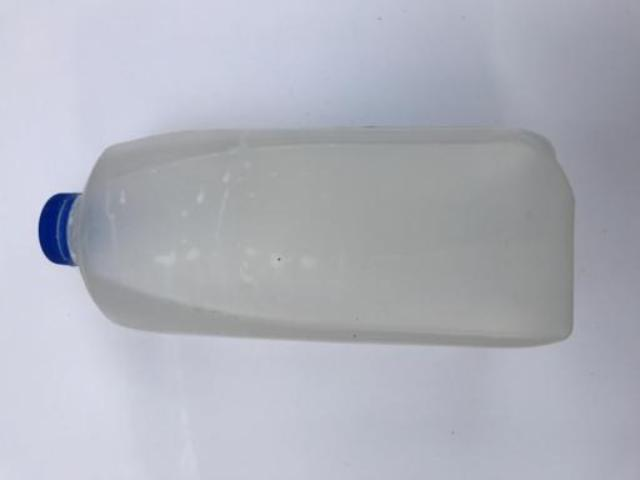plastic: (38, 126, 571, 344)
